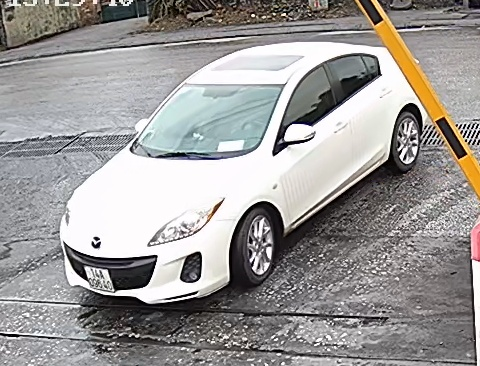vehicle plate: (80, 261, 119, 297)
